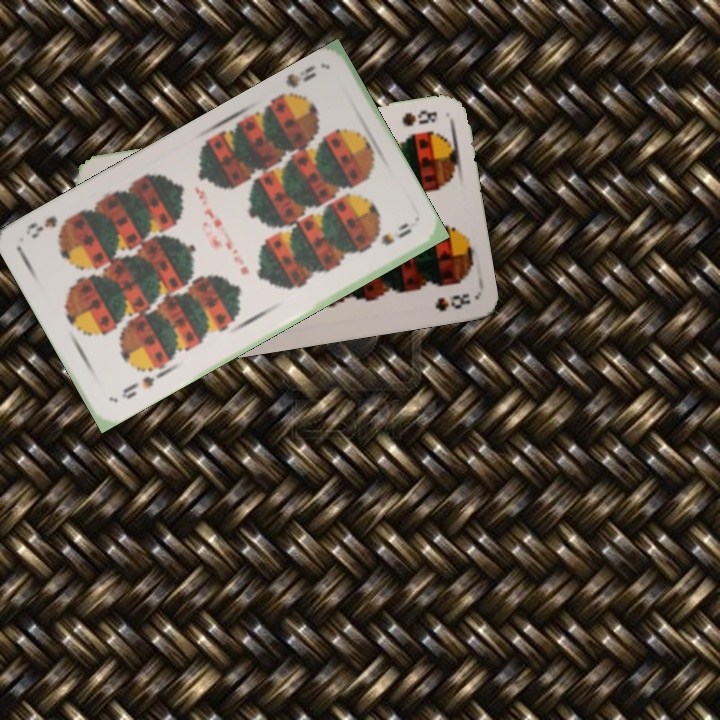S8: (398, 106, 440, 129)
S9: (273, 61, 319, 106), (117, 371, 157, 402)
